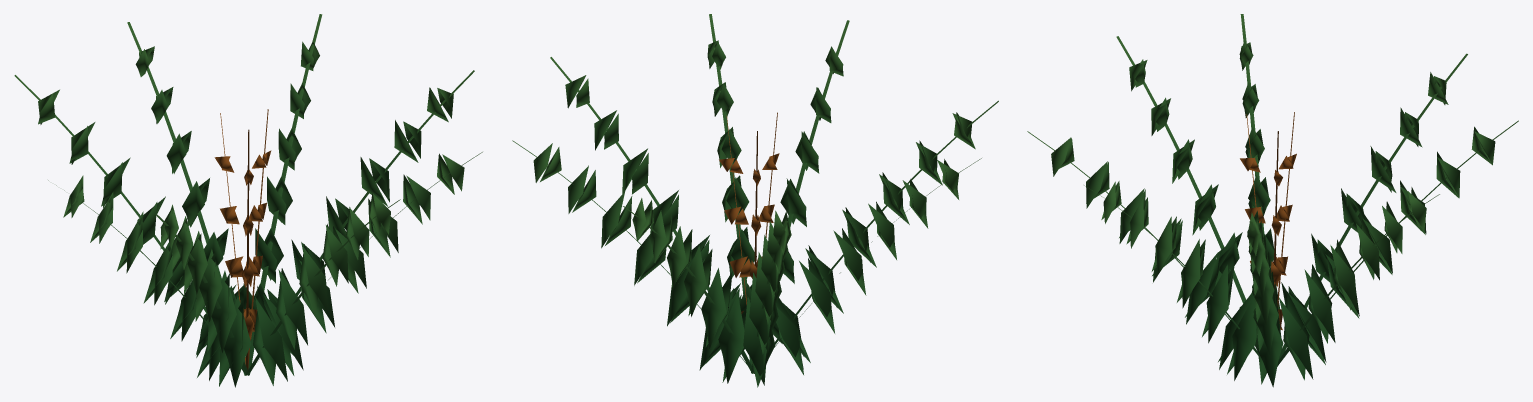
Rendered from Fern_Cinnamon.glb.
The picture shows the model from 3 angles, left to right: view 1: azimuth 30°, elevation 25°; view 2: azimuth 150°, elevation 25°; view 3: azimuth 270°, elevation 25°; orthographic projection.
Parts seen in each view (by area): view 1: Fern_Cinnamon; view 2: Fern_Cinnamon; view 3: Fern_Cinnamon.
Boxes of the visible parts, x1,y1,x2,y2 form: Fern_Cinnamon: (14, 14, 482, 387); Fern_Cinnamon: (512, 14, 998, 387); Fern_Cinnamon: (1027, 14, 1518, 387).
Bounding box in the file's own units: 1.07 × 0.6129 × 1.07.
